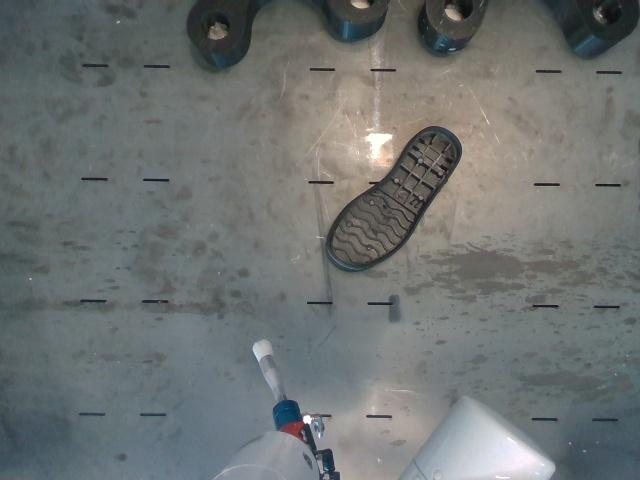shoes: (328, 127, 461, 269)
